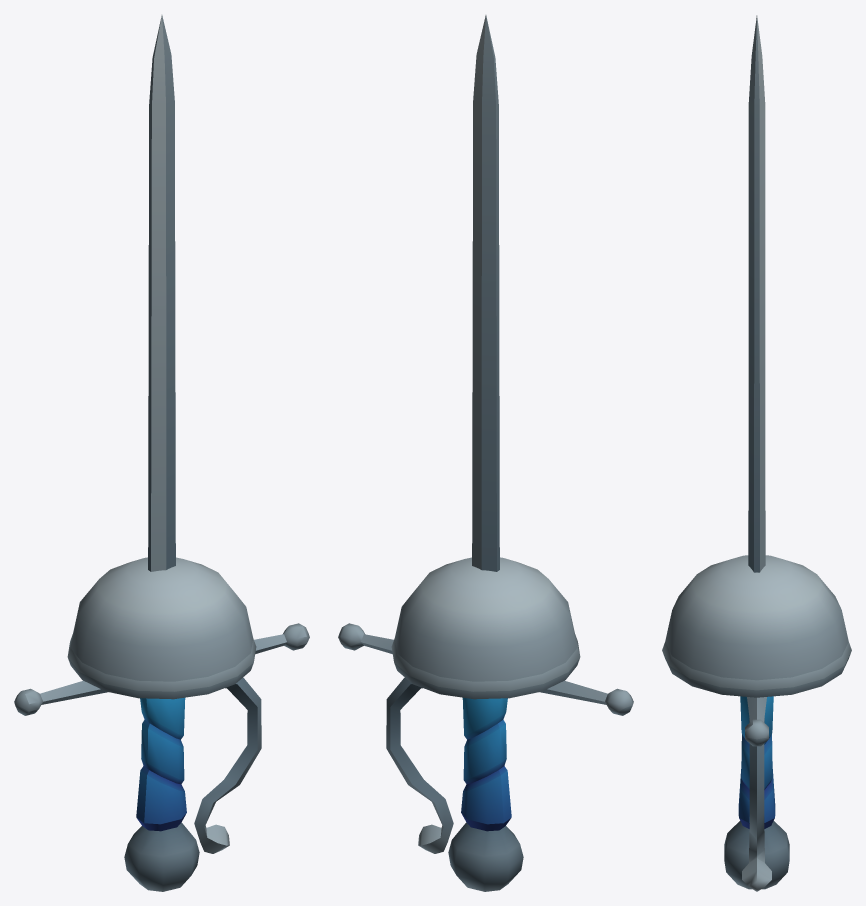
Rendered from sword_D.fbx.
3 renders of one model, left to right at view 1: azimuth 30°, elevation 25°; view 2: azimuth 150°, elevation 25°; view 3: azimuth 270°, elevation 25°, orthographic.
Visible parts, largest first — view 1: sword_D; view 2: sword_D; view 3: sword_D.
Part boxes in pixels (<box>): sword_D: <box>14,15,309,891</box>; sword_D: <box>338,15,633,891</box>; sword_D: <box>662,15,851,891</box>.
Bounding box in the file's own units: 71.49 × 204 × 40.15.
